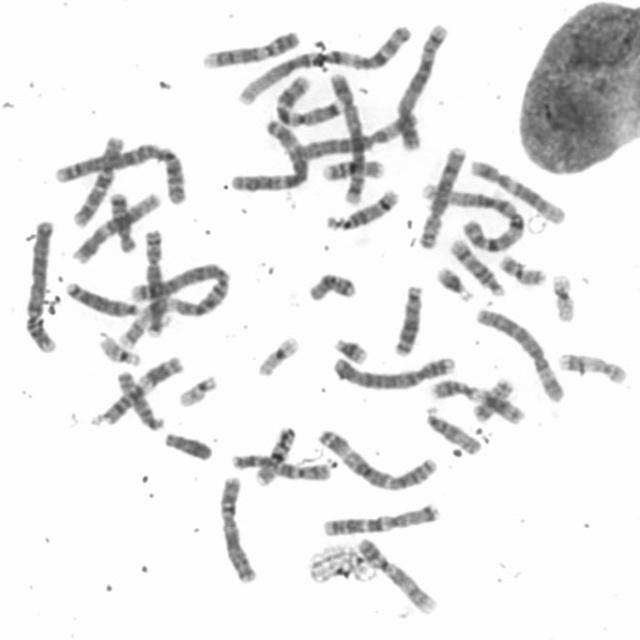A1: (232, 22, 415, 108), (418, 181, 526, 254)
A2: (50, 141, 190, 209), (128, 258, 230, 320)
A3: (313, 424, 439, 493), (225, 117, 311, 193)
B4: (328, 350, 456, 392), (24, 217, 60, 356)
B5: (392, 20, 450, 152), (326, 68, 368, 206)
C10: (68, 132, 125, 229), (227, 450, 333, 482)
C11: (90, 353, 186, 429), (427, 375, 525, 425)
C12: (70, 188, 164, 265), (467, 156, 567, 225)
C6: (473, 304, 566, 404), (284, 113, 422, 164)
C7: (317, 500, 442, 538), (271, 73, 344, 127)
C8: (414, 141, 469, 250), (139, 226, 169, 338)
C9: (353, 534, 438, 616), (199, 27, 302, 70)
D13: (62, 278, 140, 318), (390, 280, 425, 359)
D14: (446, 235, 506, 298), (322, 186, 402, 233)
D15: (114, 368, 165, 432), (422, 403, 482, 455)
E16: (250, 422, 298, 487), (320, 156, 386, 183)
E17: (556, 349, 628, 386), (118, 296, 166, 350)
E18: (106, 189, 138, 254), (303, 269, 358, 304)
F19: (252, 333, 302, 378), (548, 270, 578, 325)
F20: (469, 374, 515, 423), (497, 252, 547, 287)
G21: (434, 263, 476, 303), (330, 333, 371, 365)
G22: (94, 330, 144, 365), (174, 371, 218, 409)
X: (215, 472, 259, 584)
Y: (161, 429, 214, 462)
